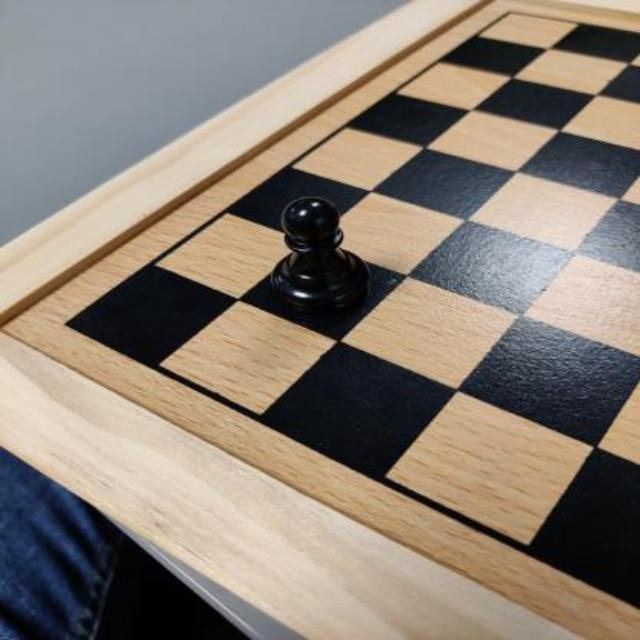black-pawn: (267, 196, 376, 314)
